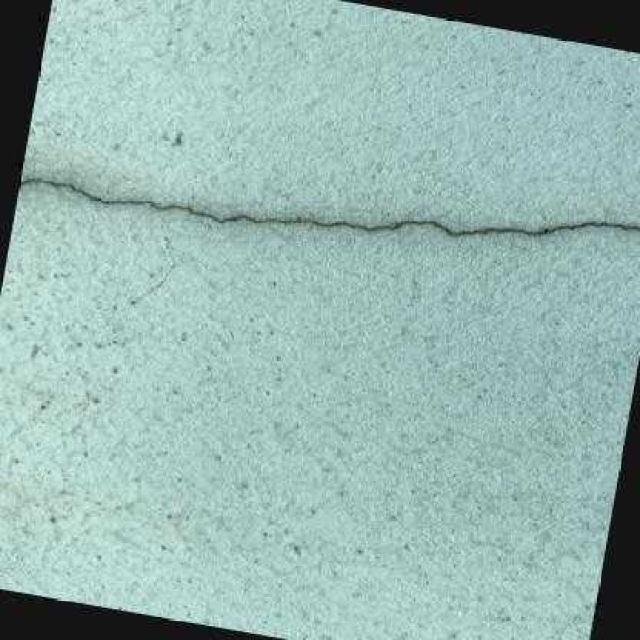D00: (19, 175, 640, 237)
